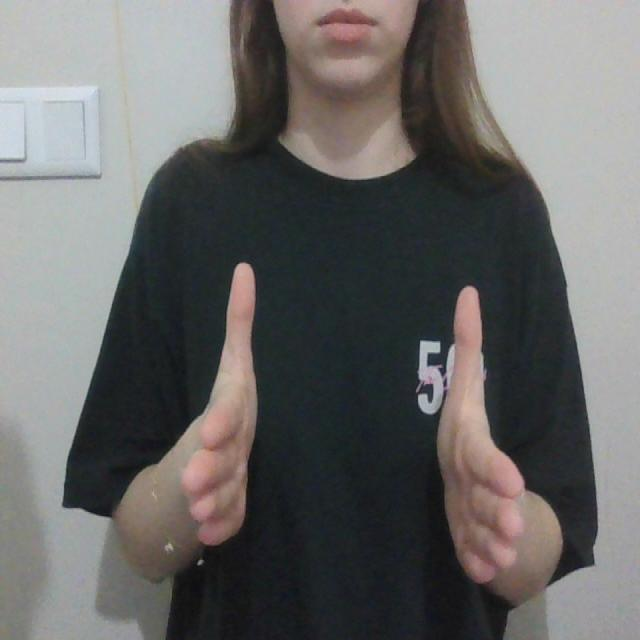Nasil: (176, 237, 532, 598)
